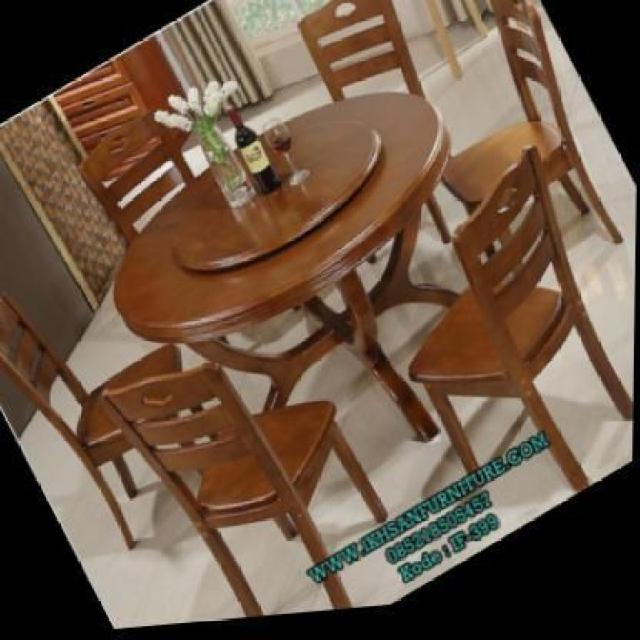tables: (101, 90, 452, 444)
